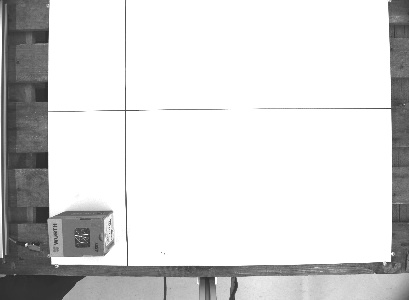b4: (45, 208, 117, 260)
